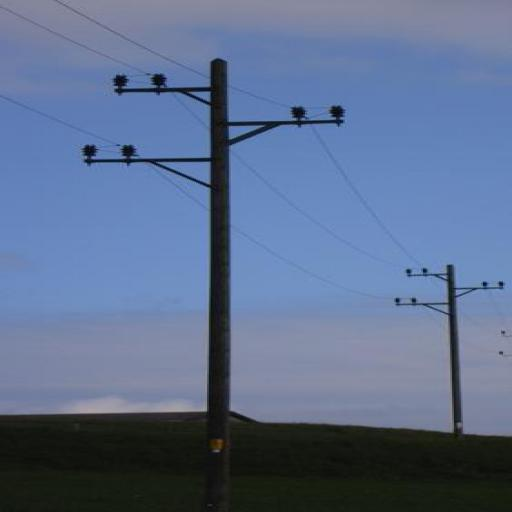mono_10: (80, 55, 350, 508), (398, 262, 504, 444)
